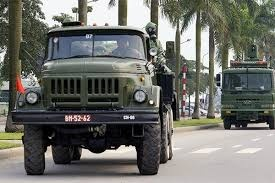plate: (63, 112, 91, 124)
